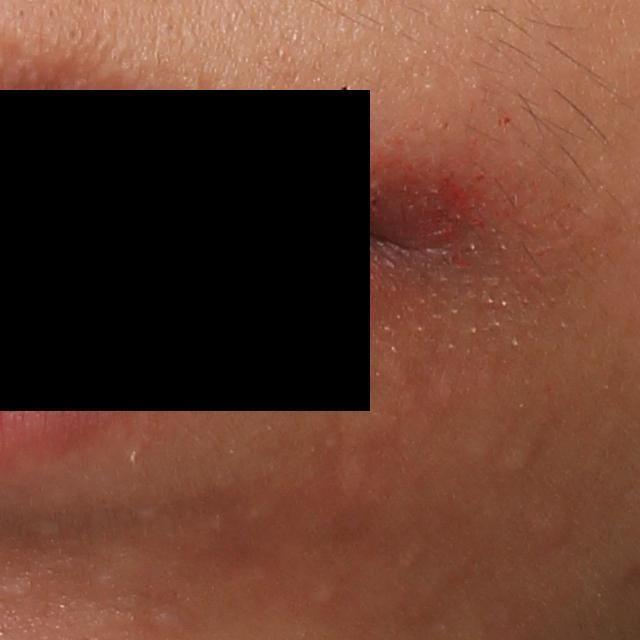comedo: (528, 503, 581, 554), (306, 580, 343, 614), (503, 441, 541, 472)
